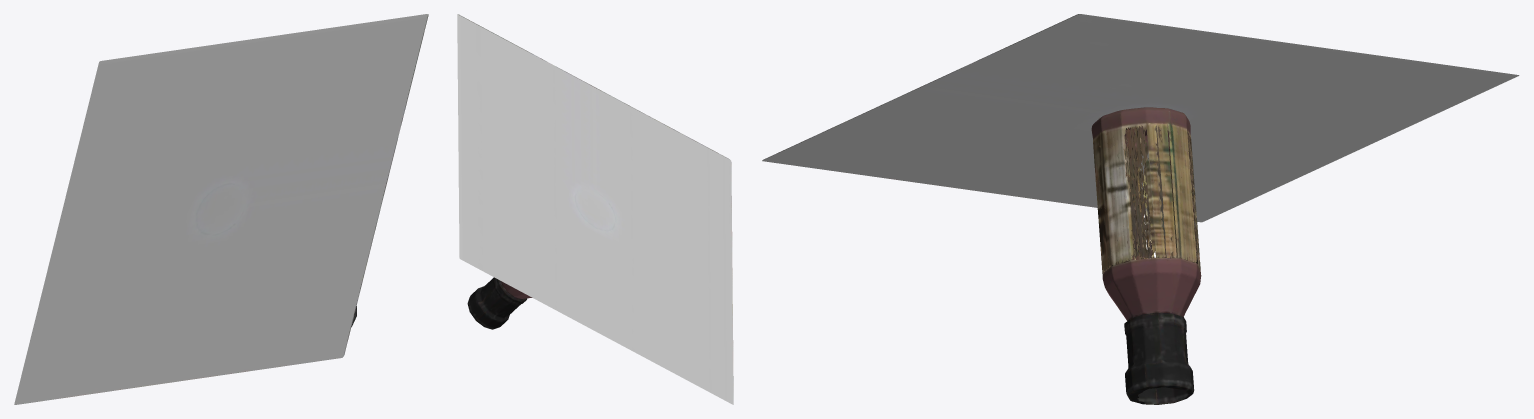
File: trellis2.glb
3 renders of one model, left to right at view 1: azimuth 30°, elevation 25°; view 2: azimuth 150°, elevation 25°; view 3: azimuth 270°, elevation 25°, orthographic. The views are drawn at different scales.
Visible parts, largest first — view 1: world; view 2: world; view 3: world.
Part boxes in pixels (box(x1,y1,x2,y2)): world: box(14, 14, 428, 404); world: box(457, 14, 733, 404); world: box(762, 14, 1519, 404).
Bounding box in the file's own units: 1.05 × 0.9122 × 1.39.
Materials: 1 (1 with a texture image).
